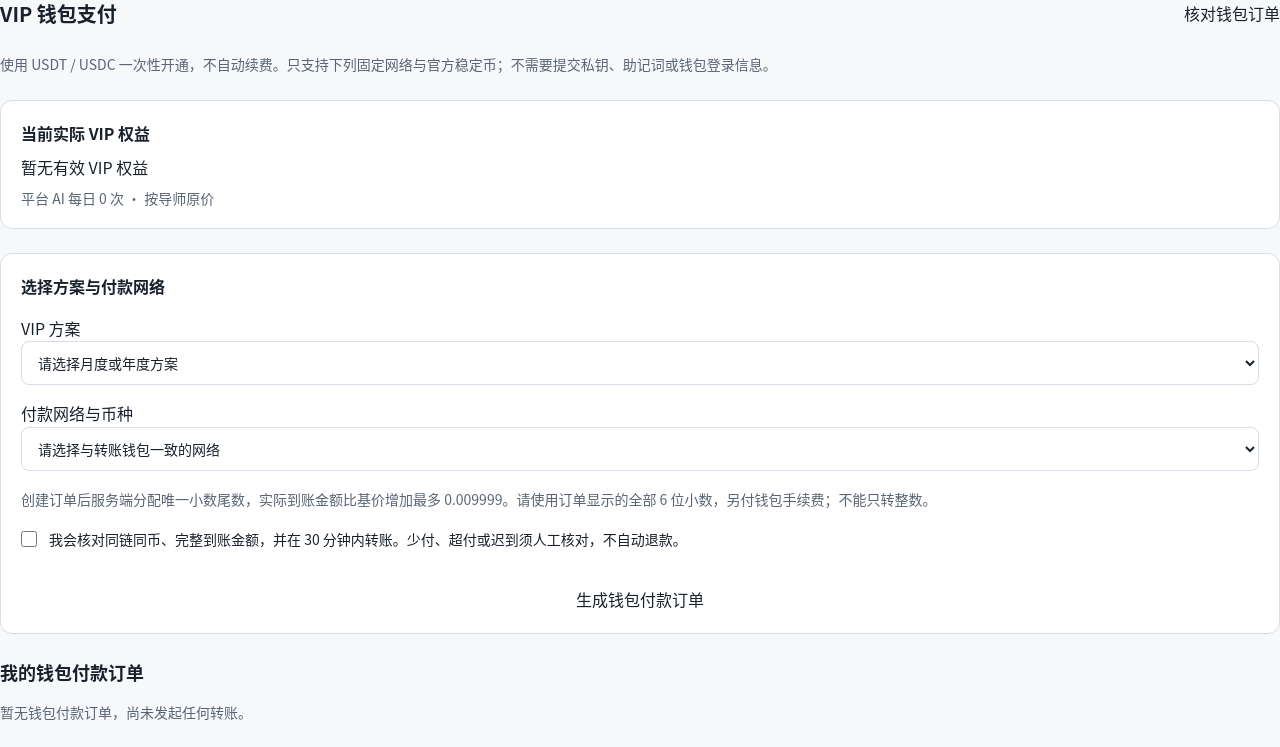
Test: MembershipWallet authentic owner checkout and proof recovery › finds a committed checkout after a lost acknowledgement without creating another payment
Step 1. Select "VIP 会员 · 月度 · 基价 52.000000 USDT / USDC" in the dropdown labelled "VIP 方案" → (640, 363), box [21,341,1259,385]
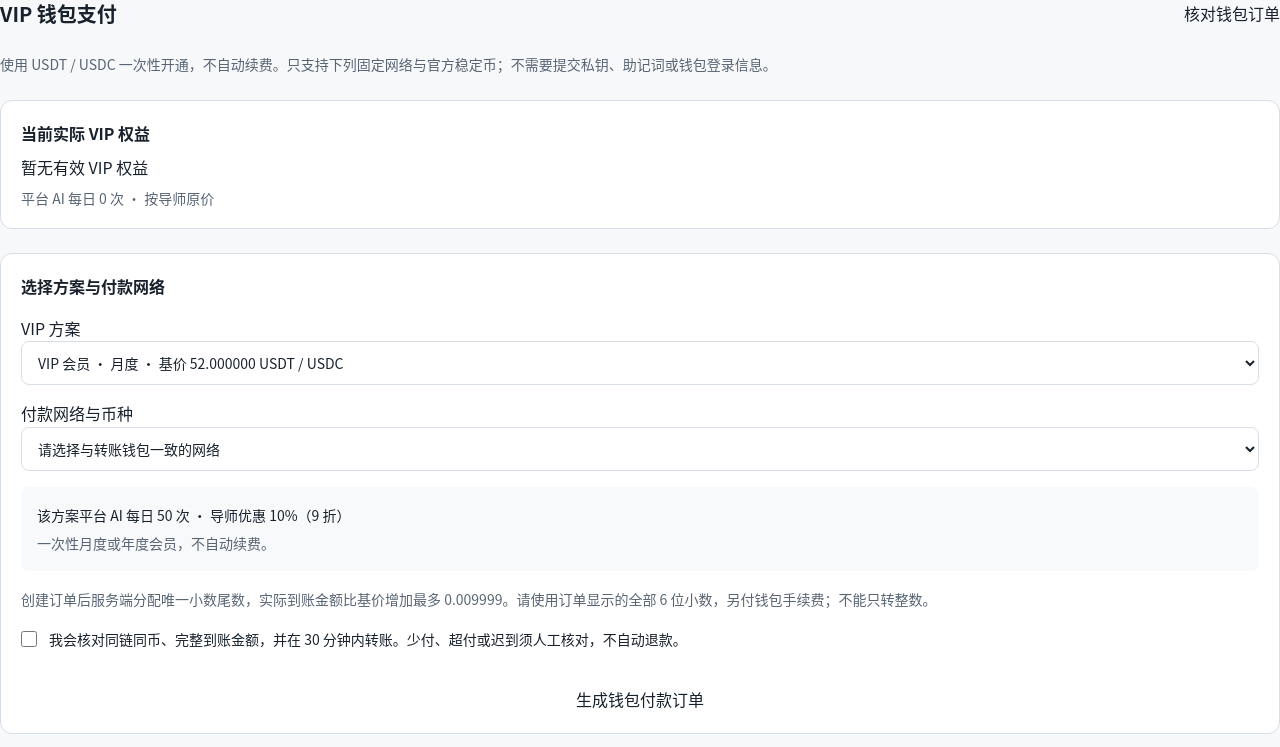
Step 2. Select "Base · USDC" in the dropdown labelled "付款网络与币种" → (640, 449), box [21,427,1259,471]
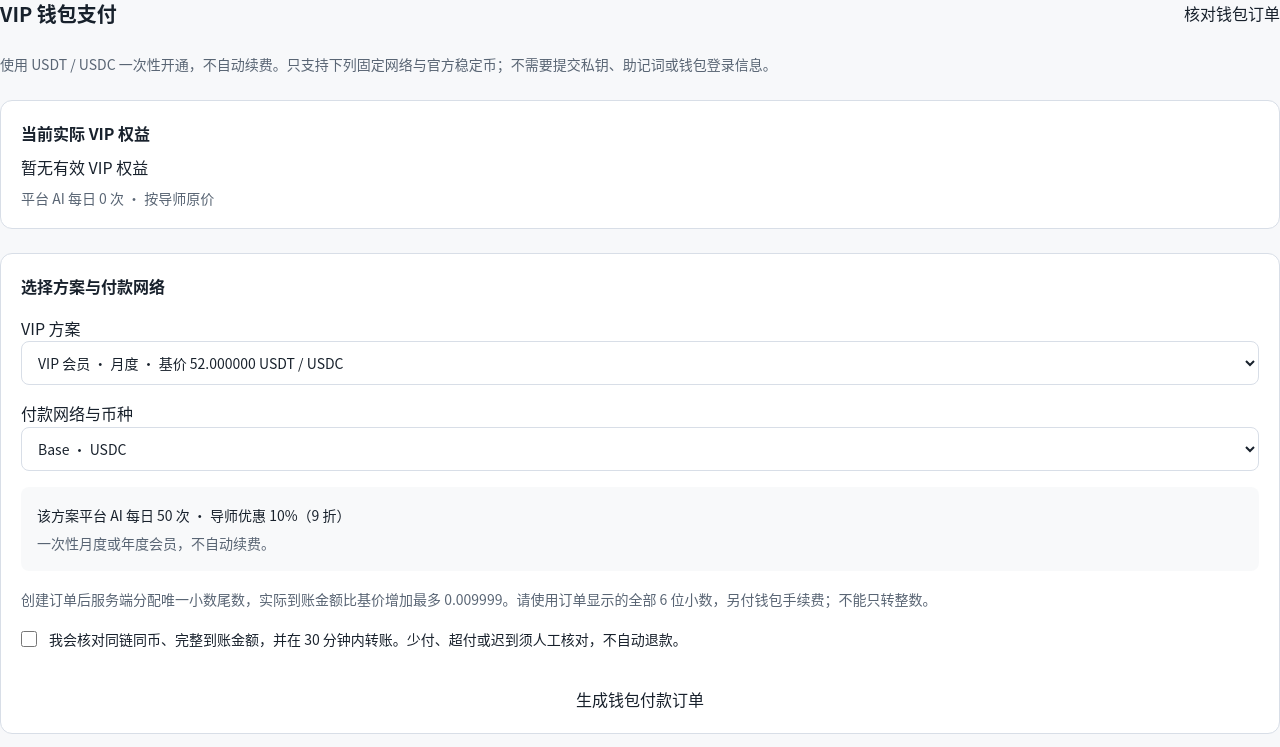
Step 3. Click the checkbox → (29, 639), box [21,631,37,647]
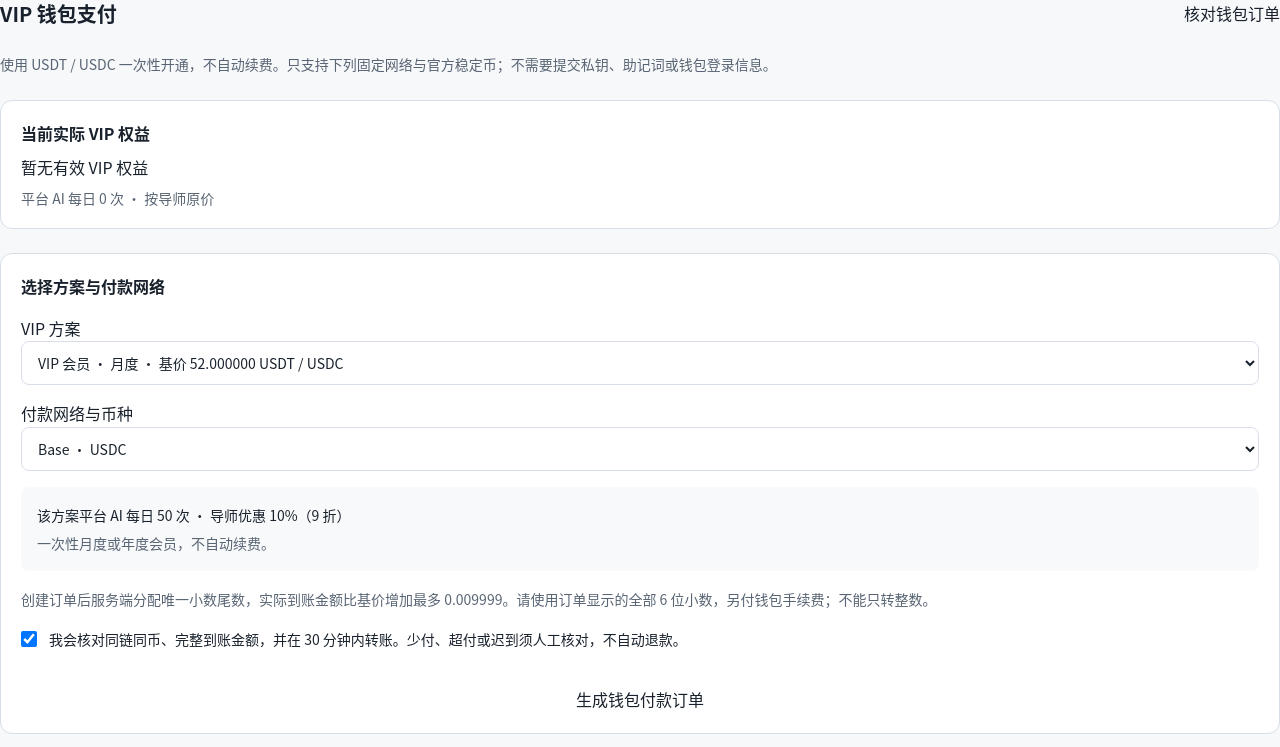
Step 4. Click the button "生成钱包付款订单" → (640, 700), box [21,687,1259,713]
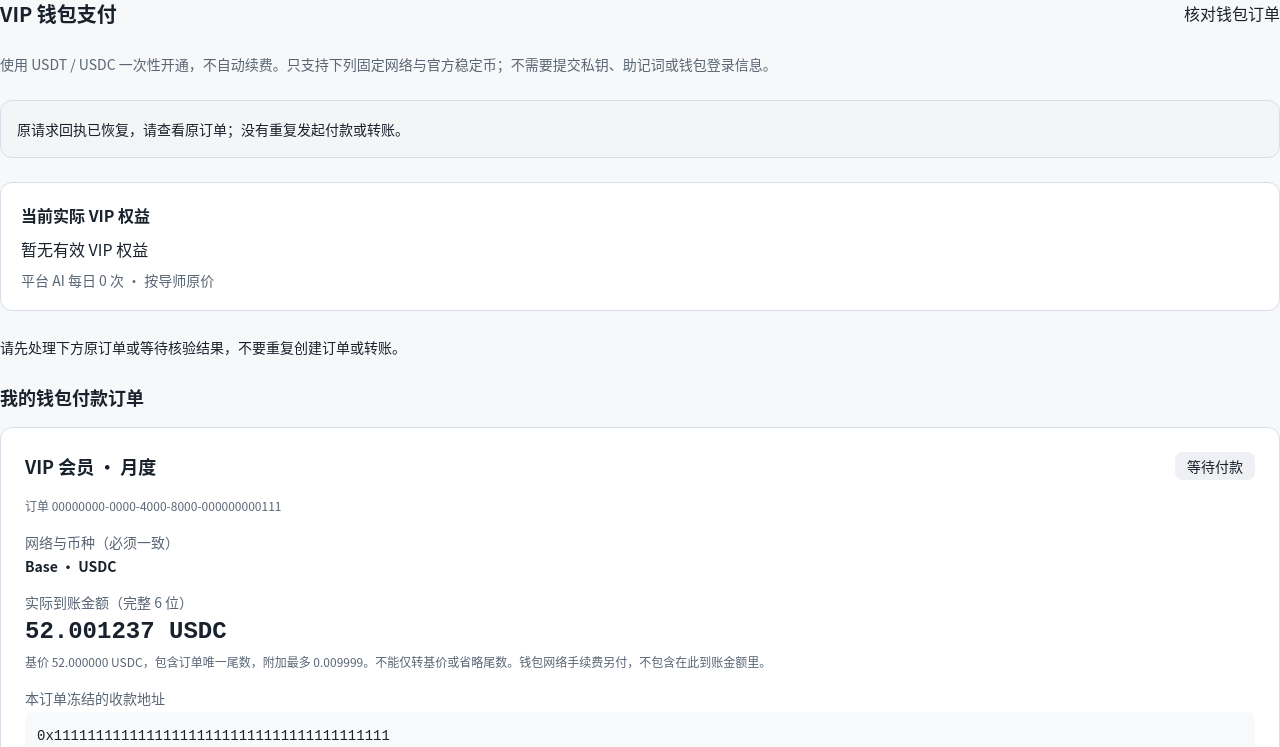
Result: the text "原请求回执已恢复，请查看原订单；没有重复发起付款或转账。" is shown at [0,100,1279,158]
Result: the text "52.001237 USDC" is shown at [25,618,227,645]
